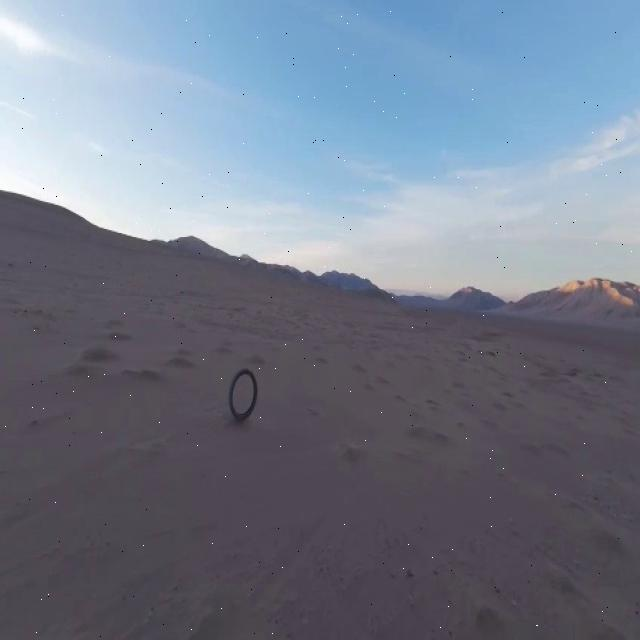Tire: (229, 368, 257, 420)
